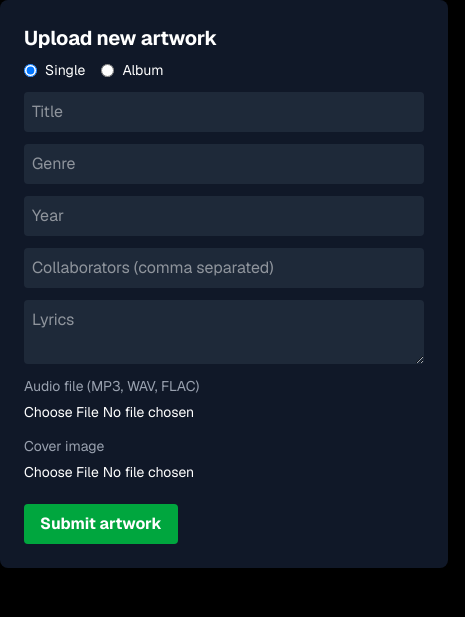
UploadArtworkForm › blocks submission without an audio file
In the field with placeholder "Title": [224, 112] box [24,92,424,132], type "No Audio"
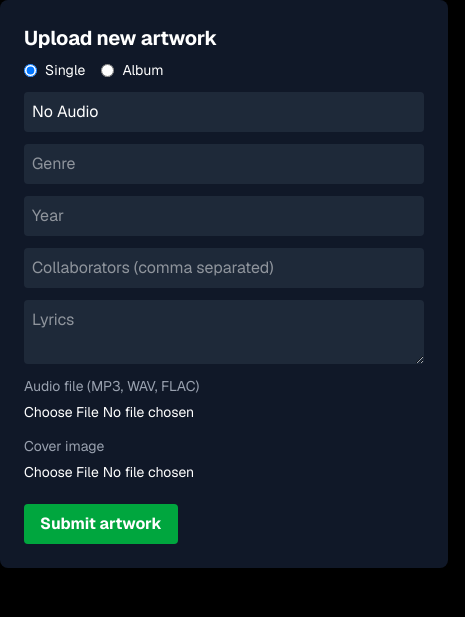
Click the button "Submit artwork": [101, 524] box [24,504,178,544]
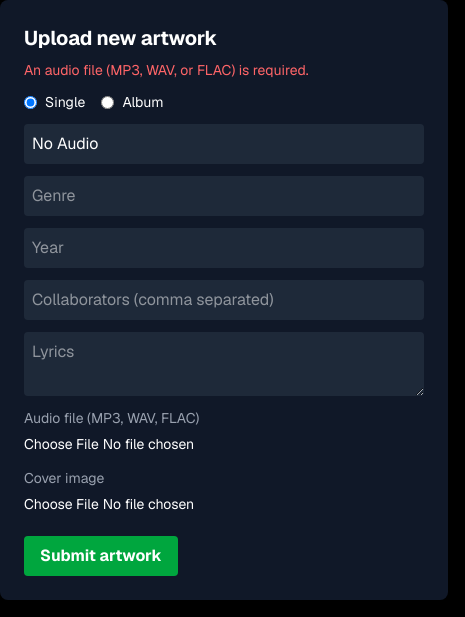
expect the text "An audio file (MP3, WAV, or FLAC) is required." is shown: met, box [24,61,308,79]
